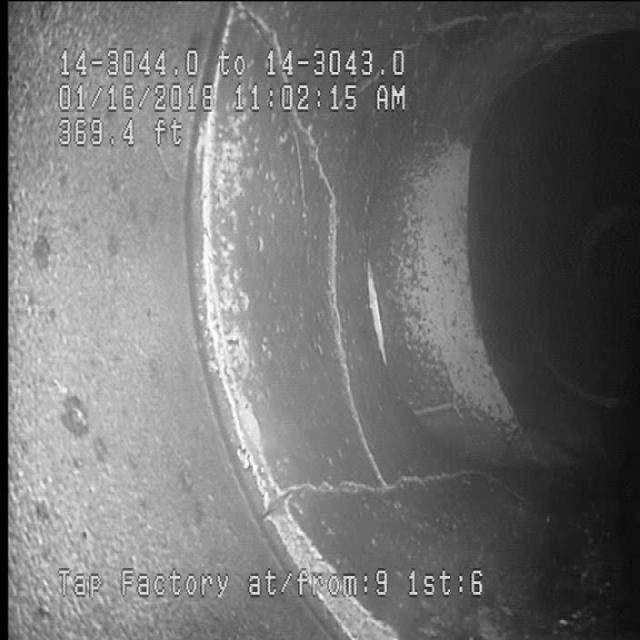Crack: (290, 142, 390, 502)
